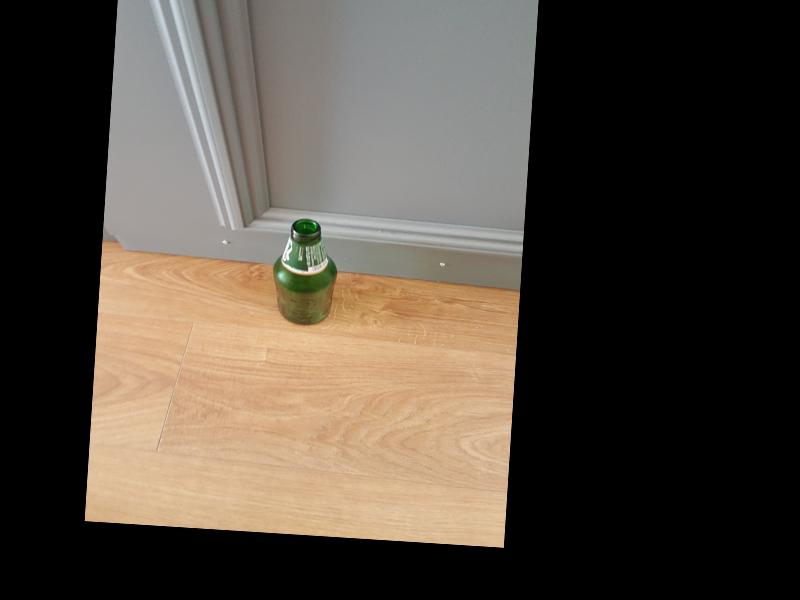Beer: (270, 217, 340, 327)
